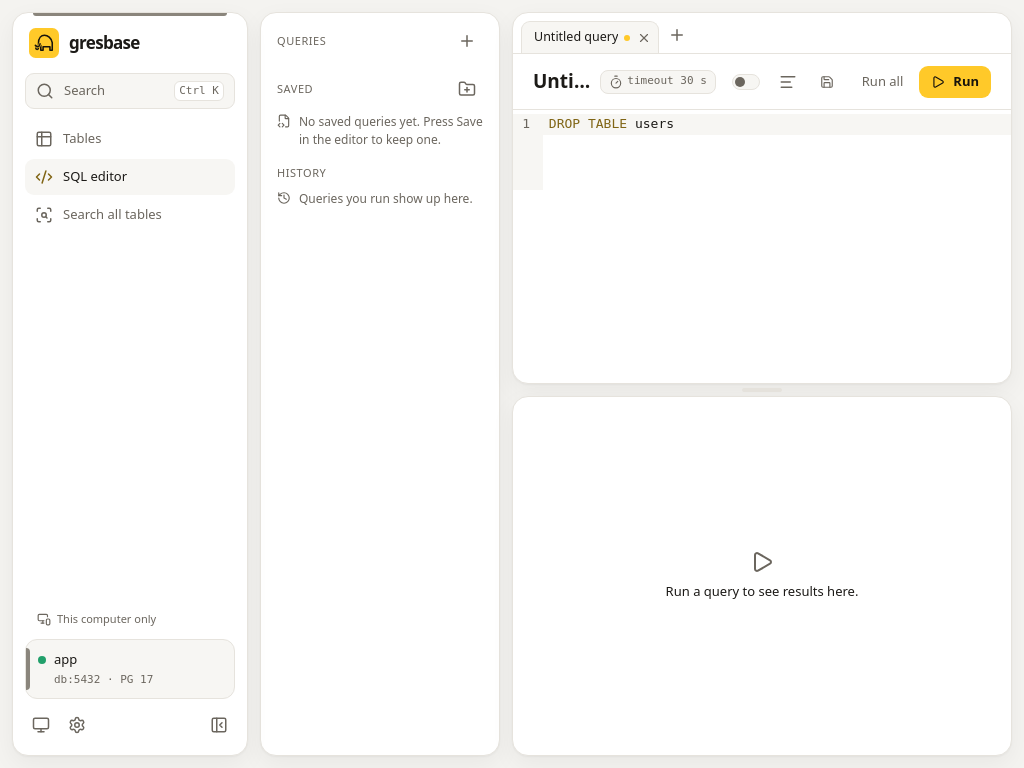
Test: SQL editor › explains request errors such as a missing confirmation
Click the button "Run" at (955, 82), box x1=919 y1=66 x2=991 y2=98
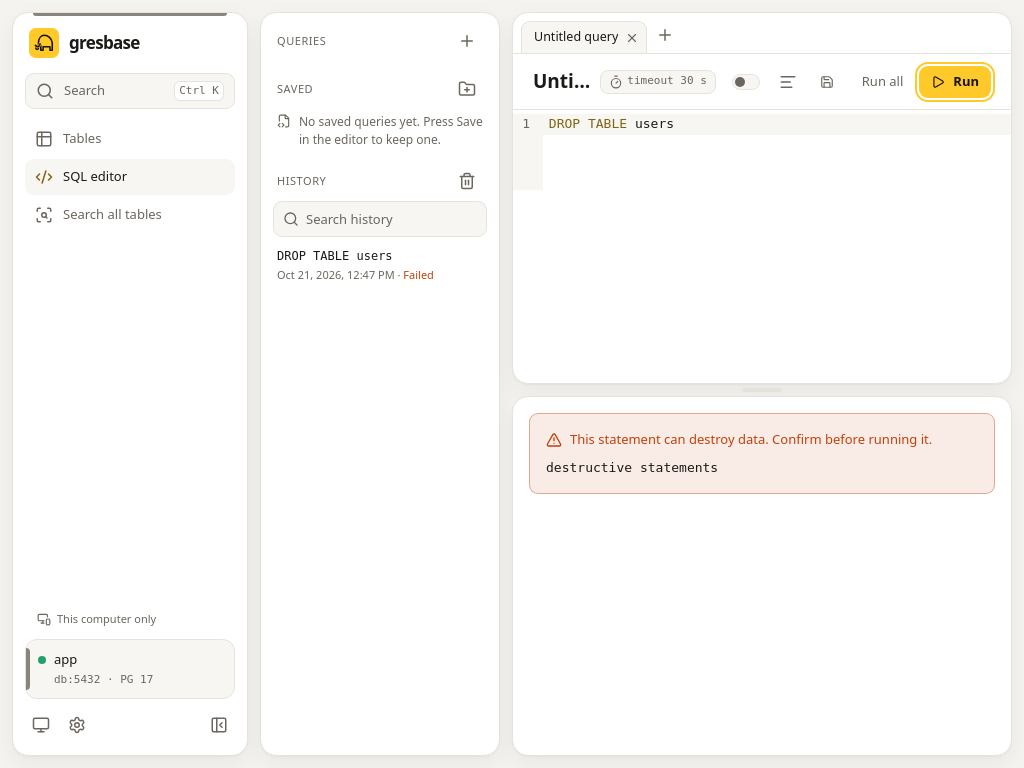
Now the 2nd message shows "This statement can destroy data. Confirm before running it.", box x1=570 y1=430 x2=932 y2=448
